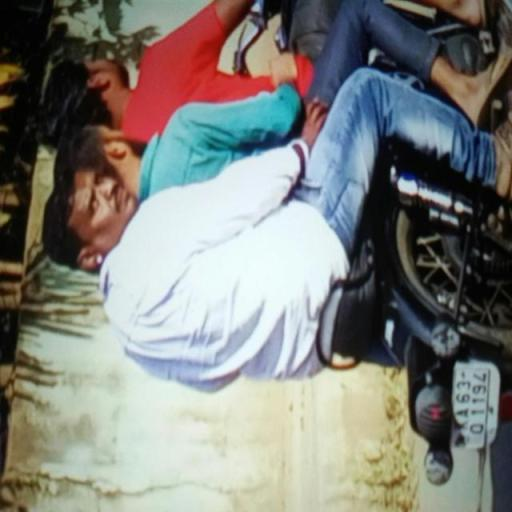tripple riding: (24, 10, 363, 394)
